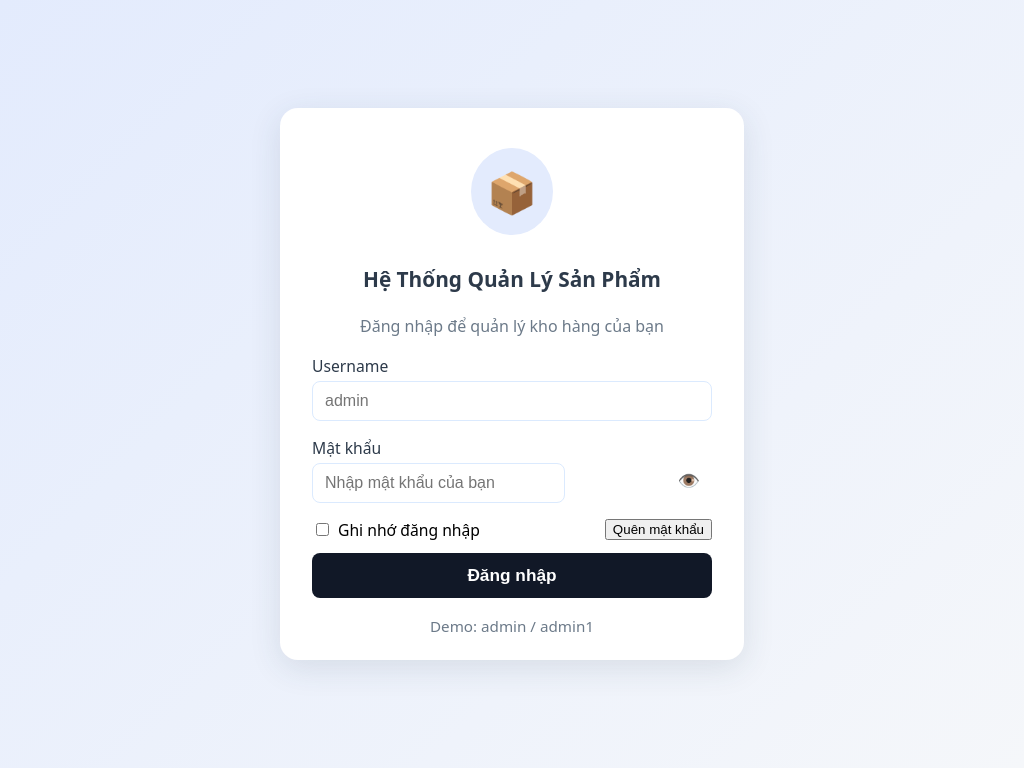
Test: Login E2E Tests › should show validation errors when fields are empty
The image size is (1024, 768).
Click the button with id "loginBtn".
click(512, 576)  # box [312,553,712,598]
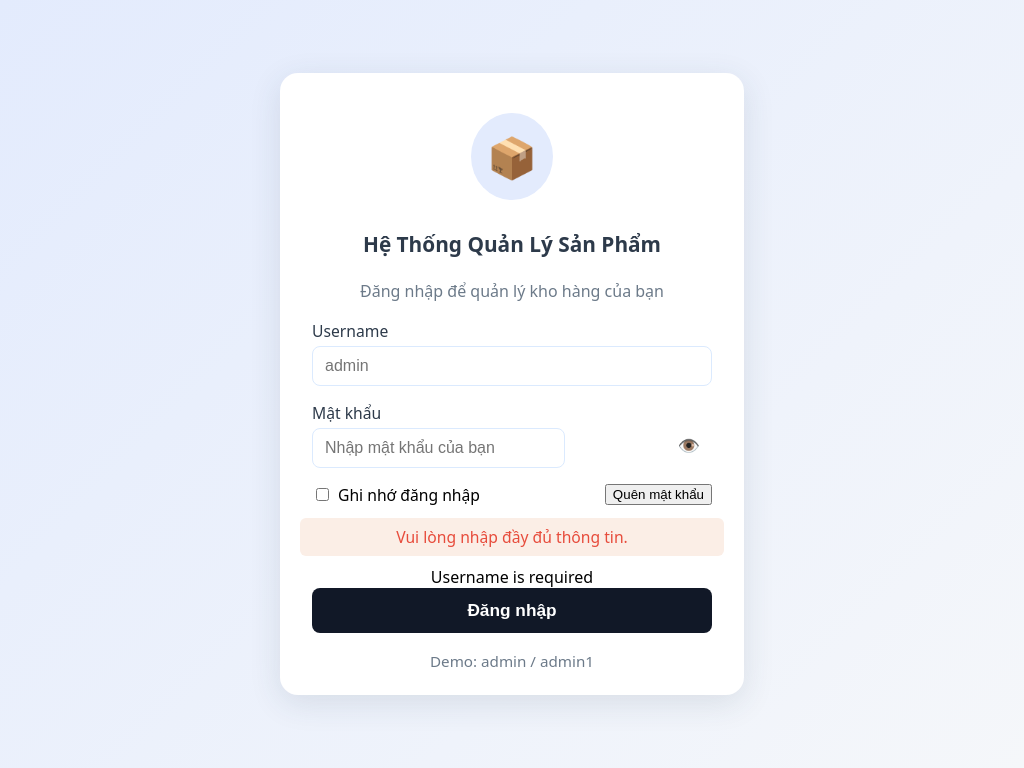
Expected: the message with class "error-message" reads "Username is required", [431,566,593,588]
